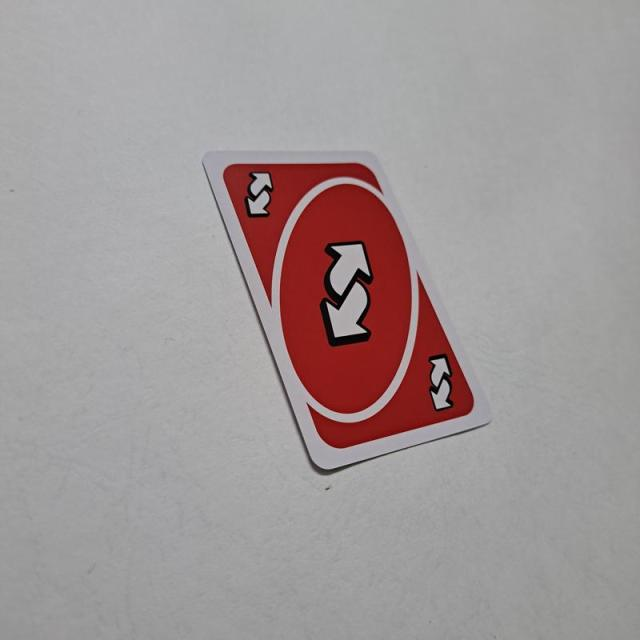Red_Card: (221, 156, 478, 454)
Reverse: (242, 166, 274, 225)
